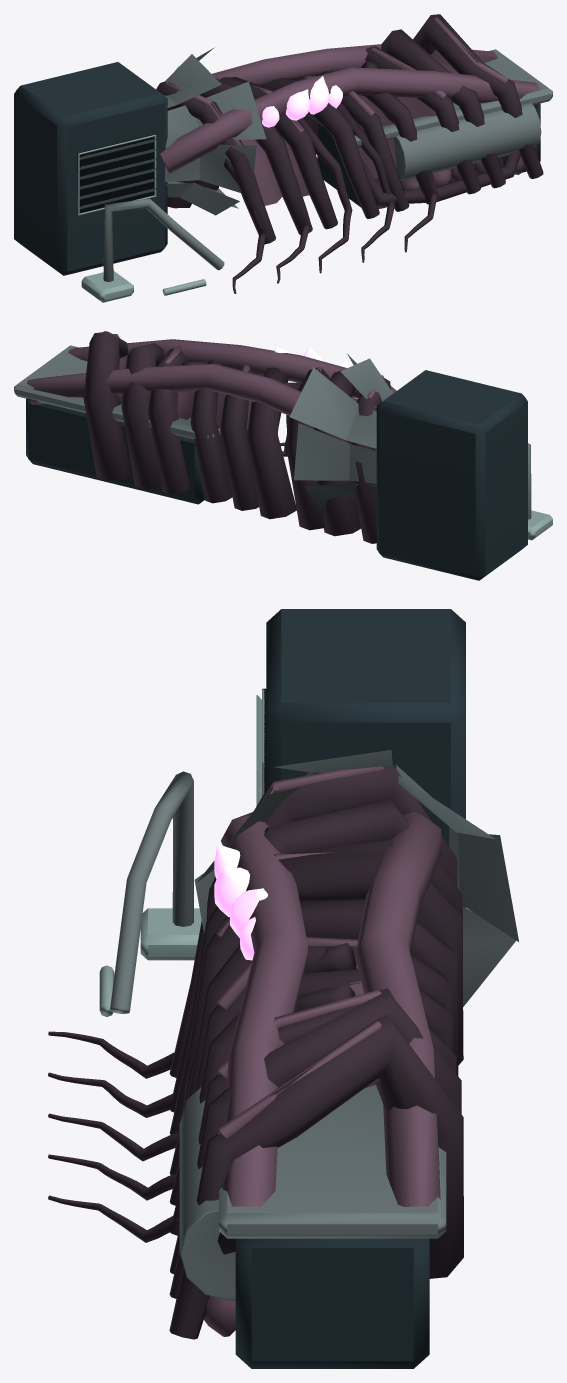
The model's file is duct.glb.
3 renders of one model, top to bottom at view 1: azimuth 30°, elevation 25°; view 2: azimuth 150°, elevation 25°; view 3: azimuth 270°, elevation 25°, orthographic. The views are drawn at different scales.
Parts seen in each view (by area): view 1: swallowed-workbay--p11-growth, swallowed-workbay--e9-body, swallowed-workbay--p11-steel, swallowed-workbay--p11-flesh, swallowed-workbay--e9-trim, swallowed-workbay--e9-dark, swallowed-workbay--p11-bio-violet; view 2: swallowed-workbay--e9-body, swallowed-workbay--p11-growth, swallowed-workbay--p11-steel, swallowed-workbay--p11-flesh, swallowed-workbay--e9-trim; view 3: swallowed-workbay--p11-growth, swallowed-workbay--e9-body, swallowed-workbay--p11-steel, swallowed-workbay--p11-flesh, swallowed-workbay--e9-trim, swallowed-workbay--p11-bio-violet.
Boxes of the visible parts, x1=… form: swallowed-workbay--p11-growth: x1=156, y1=14, x2=543, y2=293; swallowed-workbay--e9-body: x1=14, y1=62, x2=540, y2=275; swallowed-workbay--p11-steel: x1=103, y1=48, x2=552, y2=281; swallowed-workbay--p11-flesh: x1=160, y1=17, x2=540, y2=208; swallowed-workbay--e9-trim: x1=77, y1=134, x2=206, y2=302; swallowed-workbay--e9-dark: x1=77, y1=134, x2=155, y2=214; swallowed-workbay--p11-bio-violet: x1=262, y1=76, x2=342, y2=127; swallowed-workbay--e9-body: x1=26, y1=370, x2=527, y2=580; swallowed-workbay--p11-growth: x1=83, y1=331, x2=390, y2=543; swallowed-workbay--p11-steel: x1=14, y1=345, x2=531, y2=519; swallowed-workbay--p11-flesh: x1=27, y1=331, x2=396, y2=450; swallowed-workbay--e9-trim: x1=528, y1=510, x2=552, y2=540; swallowed-workbay--p11-growth: x1=48, y1=764, x2=463, y2=1339; swallowed-workbay--e9-body: x1=235, y1=609, x2=465, y2=1368; swallowed-workbay--p11-steel: x1=110, y1=750, x2=518, y2=1300; swallowed-workbay--p11-flesh: x1=204, y1=766, x2=442, y2=1336; swallowed-workbay--e9-trim: x1=99, y1=688, x2=265, y2=1016; swallowed-workbay--p11-bio-violet: x1=214, y1=843, x2=267, y2=960.
Bounding box in the file's own units: 5.88 × 1.95 × 2.53.
